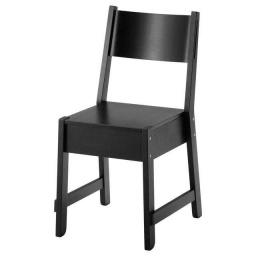Chair: (57, 7, 203, 252)
